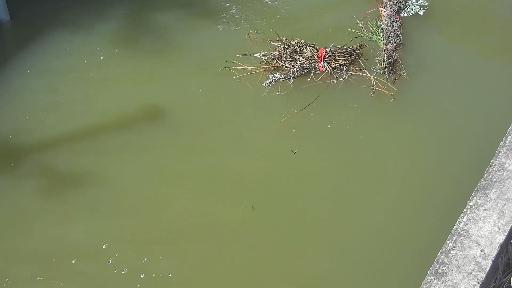twig: (221, 30, 372, 94), (350, 0, 429, 101)
